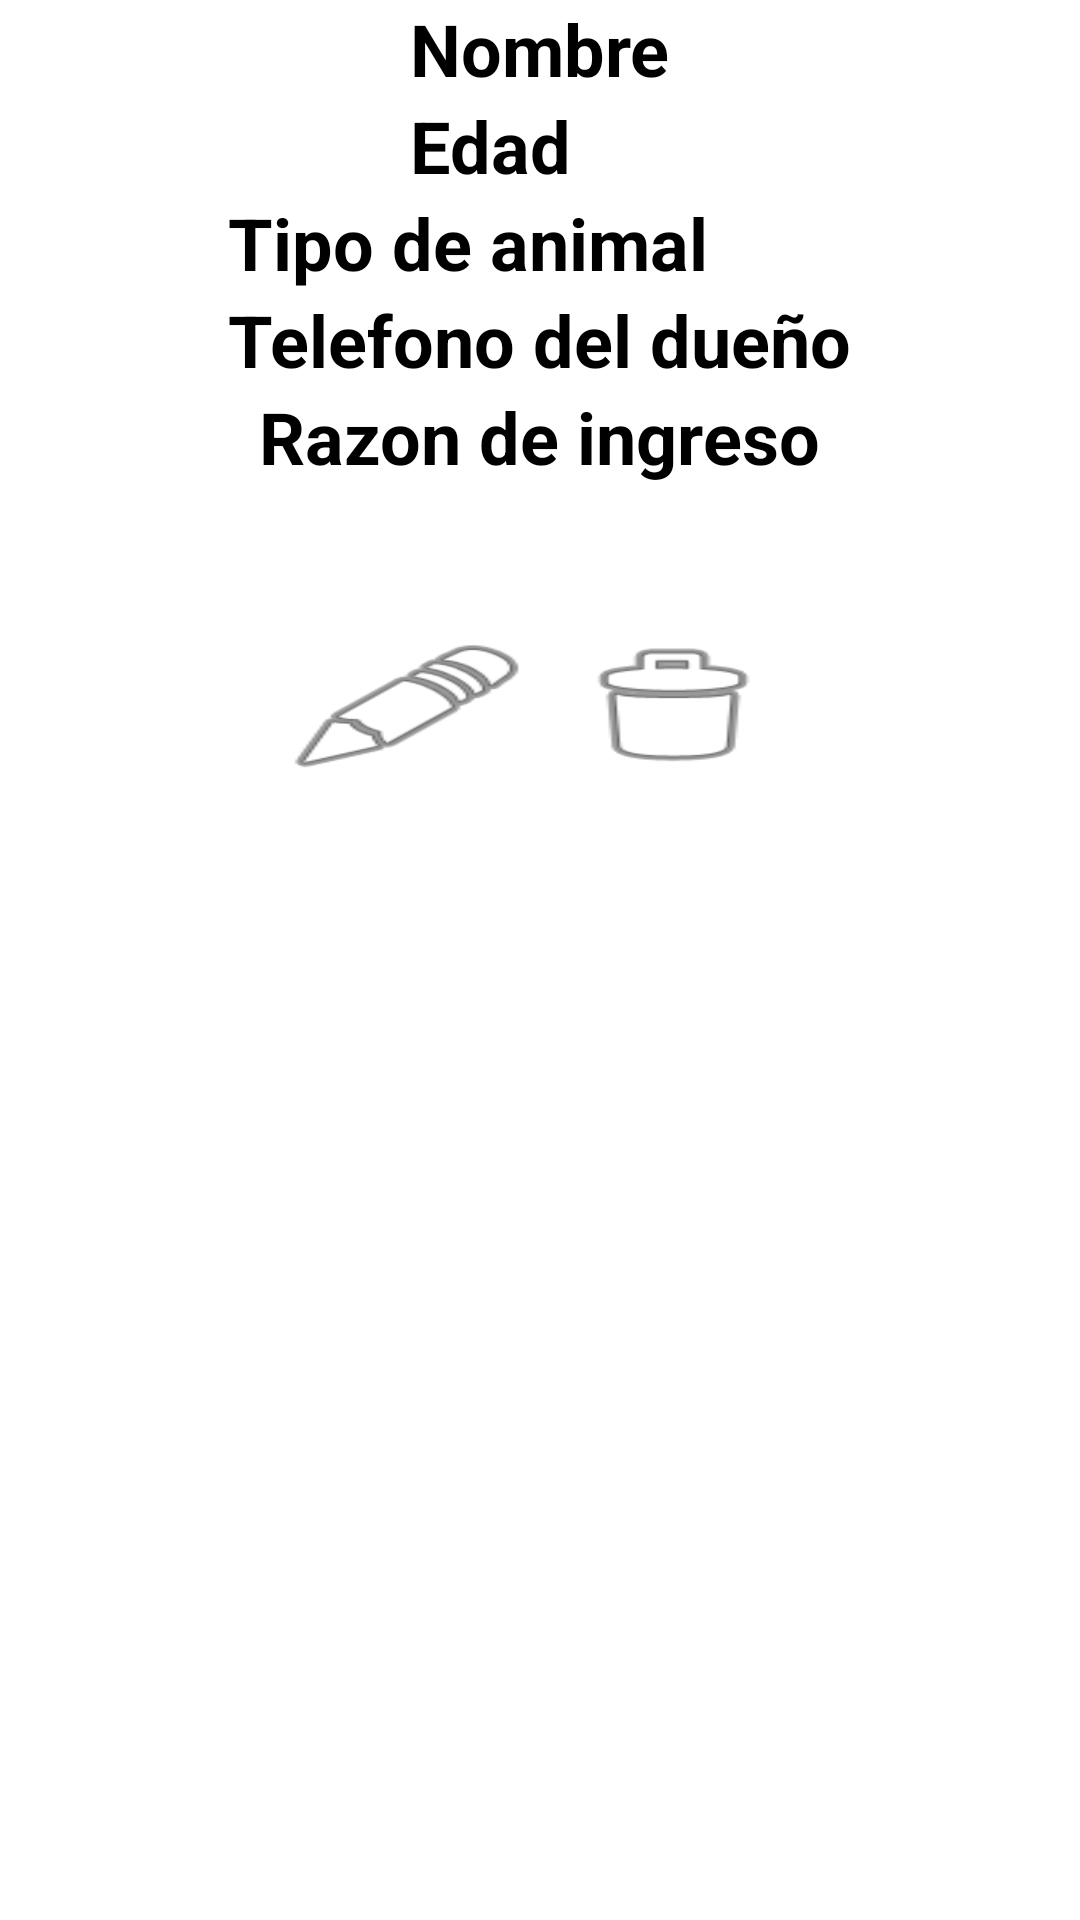

Locate icon controls on the screen. Image size 1080px×1920px, boxes as [x1,y1,x2,y2].
delete: [598,648,748,761]
edit: [295,645,519,767]
